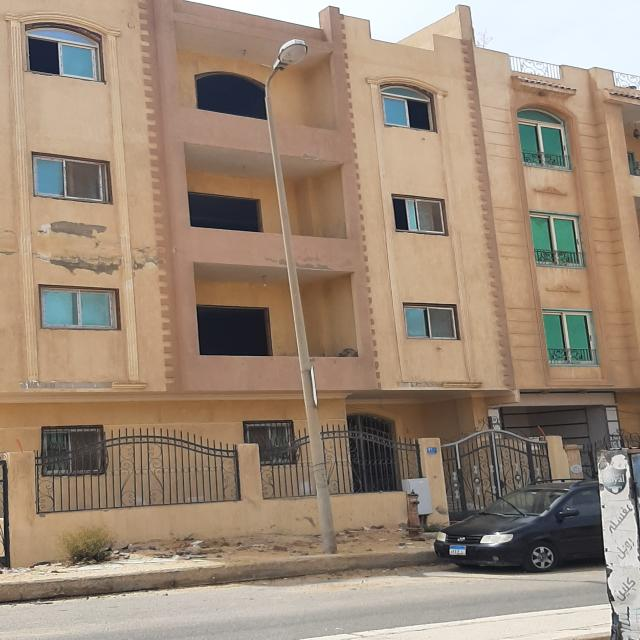Street Light: (262, 39, 342, 554)
